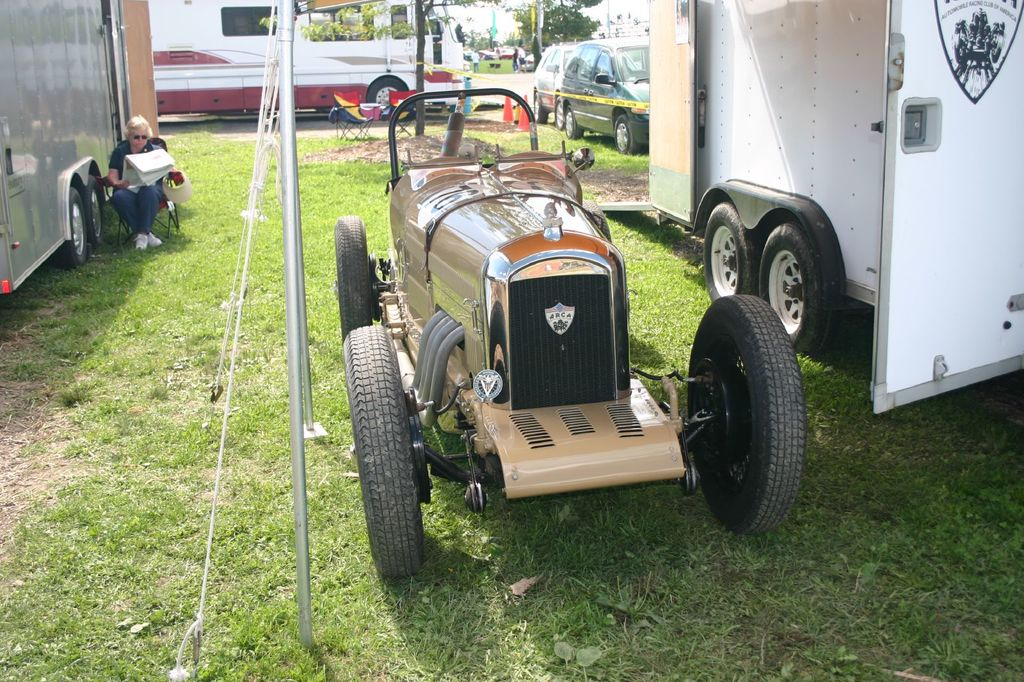Car: (557, 36, 657, 155), (529, 41, 582, 116), (478, 46, 496, 59), (498, 46, 515, 59), (462, 49, 473, 59)
